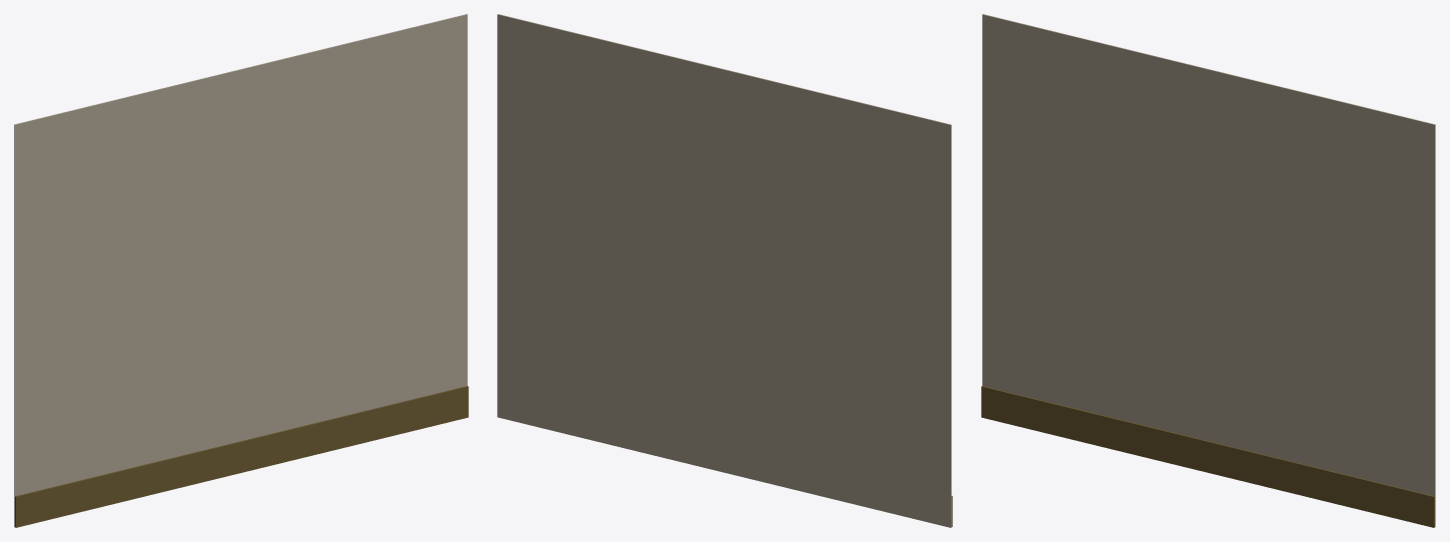
File: wall egg shell.fbx
The picture shows the model from 3 angles, left to right: view 1: azimuth 30°, elevation 25°; view 2: azimuth 150°, elevation 25°; view 3: azimuth 330°, elevation 25°; orthographic projection.
Visible parts, largest first — view 1: pPlane1; view 2: pPlane1; view 3: pPlane1.
Boxes of the visible parts, x1,y1,x2,y2 form: pPlane1: [14, 14, 468, 527]; pPlane1: [497, 14, 952, 527]; pPlane1: [981, 14, 1435, 527].
Size of the model in its own units: 61.56 by 52.27 by 0.3727.
